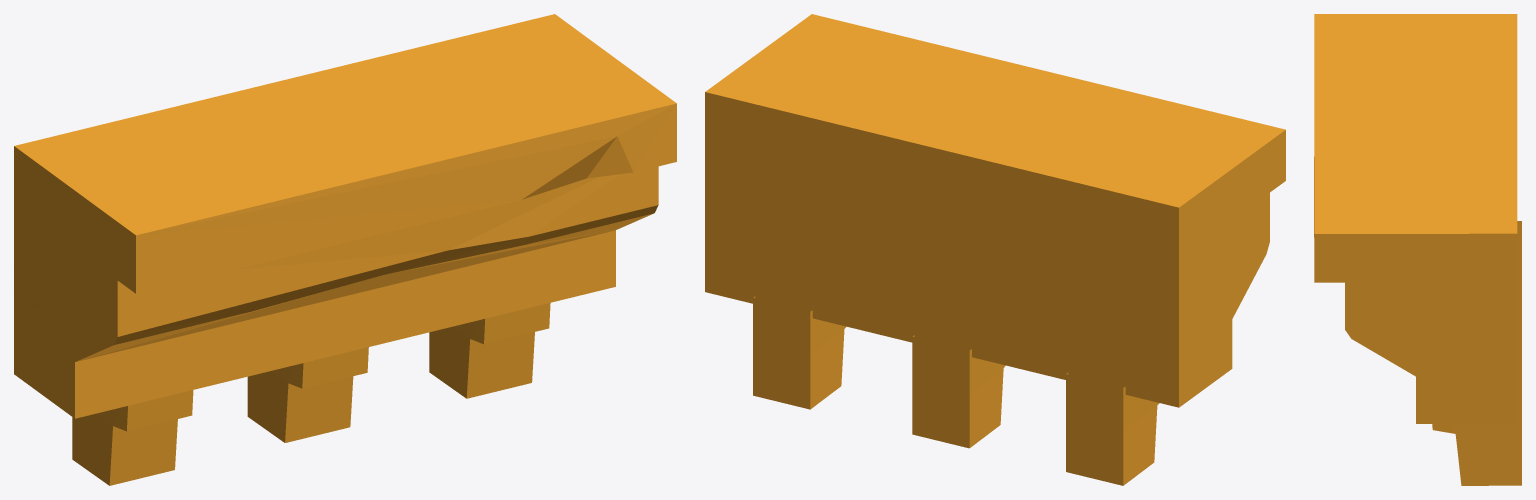
The model's file is SM_Machicolations_B_Fantasy.fbx.
3 renders of one model, left to right at view 1: azimuth 30°, elevation 25°; view 2: azimuth 150°, elevation 25°; view 3: azimuth 270°, elevation 25°, orthographic. The views are drawn at different scales.
Visible parts, largest first — view 1: SM_Machicolations_B_Fantasy; view 2: SM_Machicolations_B_Fantasy; view 3: SM_Machicolations_B_Fantasy.
Part boxes in pixels (x1,y1,x2,y2): SM_Machicolations_B_Fantasy: (14,14,676,485); SM_Machicolations_B_Fantasy: (705,14,1285,485); SM_Machicolations_B_Fantasy: (1314,14,1521,485).
Size of the model in its own units: 3 by 1.75 by 1.2.
